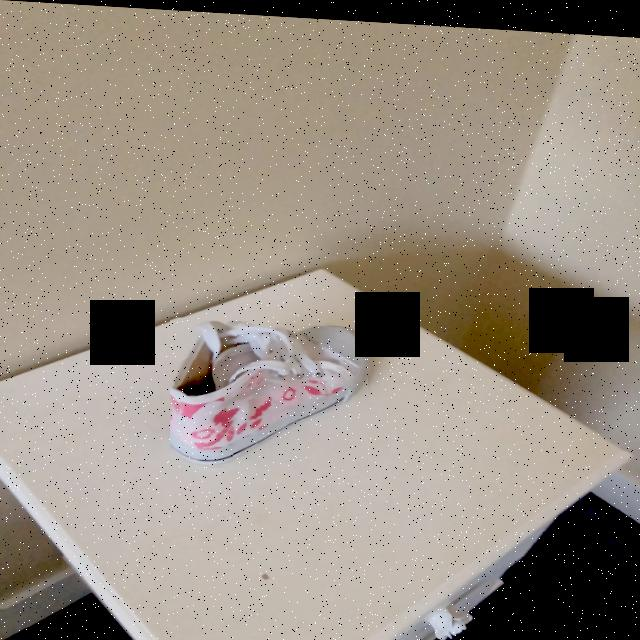shoe: (170, 321, 370, 463)
